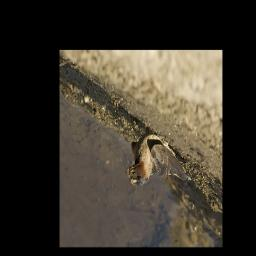Swallow: (126, 130, 189, 187)
